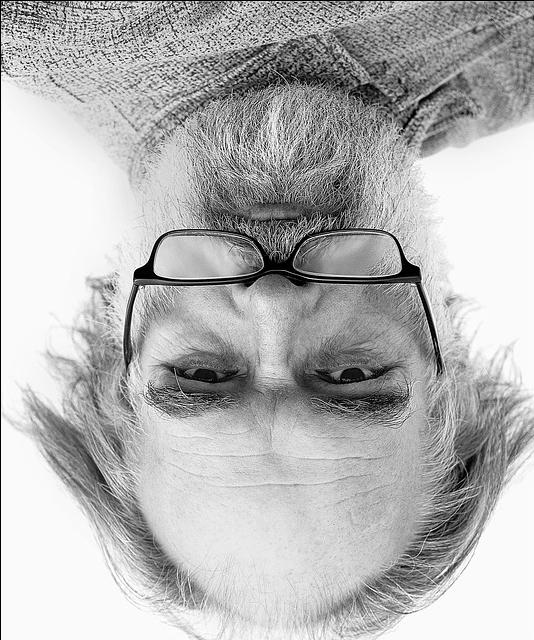Non_Gorille: (0, 7, 512, 628)
